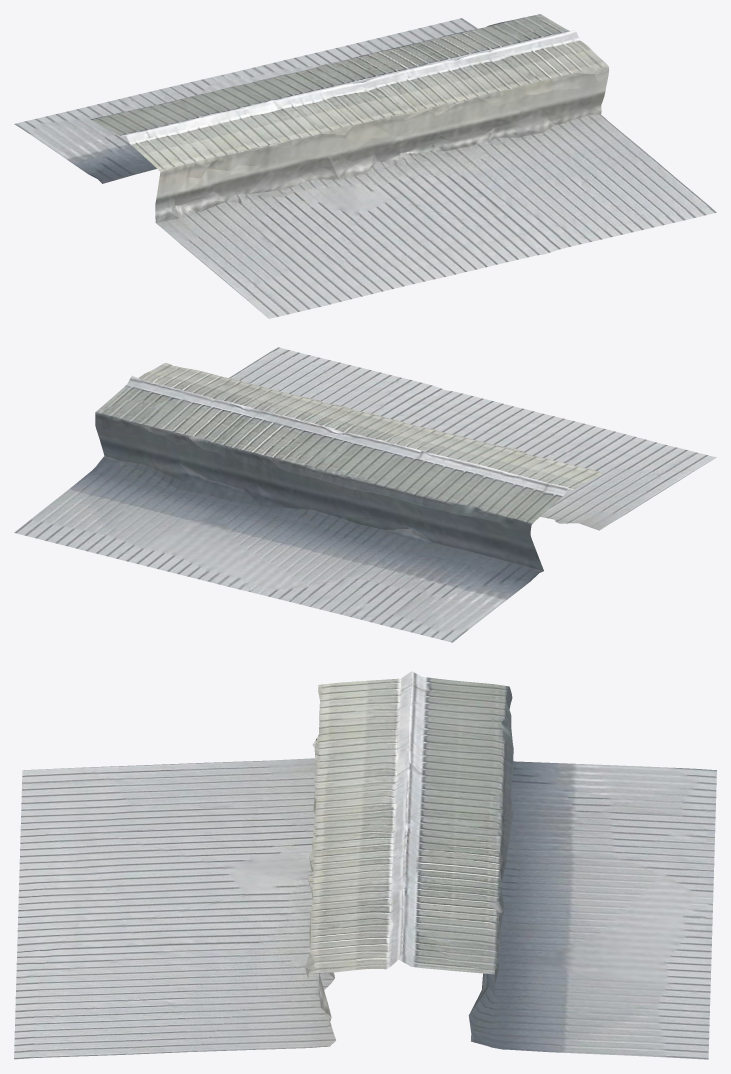
The model's file is Tile_+005_+005_L20_0uuuu13.glb.
3 renders of one model, top to bottom at view 1: azimuth 30°, elevation 25°; view 2: azimuth 150°, elevation 25°; view 3: azimuth 270°, elevation 25°, orthographic. The views are drawn at different scales.
Parts seen in each view (by area): view 1: rtc; view 2: rtc; view 3: rtc.
Boxes of the visible parts, box(x1,y1,x2,y2) form: rtc: box(14, 14, 716, 318); rtc: box(14, 347, 716, 642); rtc: box(14, 671, 716, 1059).
Size of the model in its own units: 20.61 by 3.39 by 20.9.
Materials: 1 (1 with a texture image).
